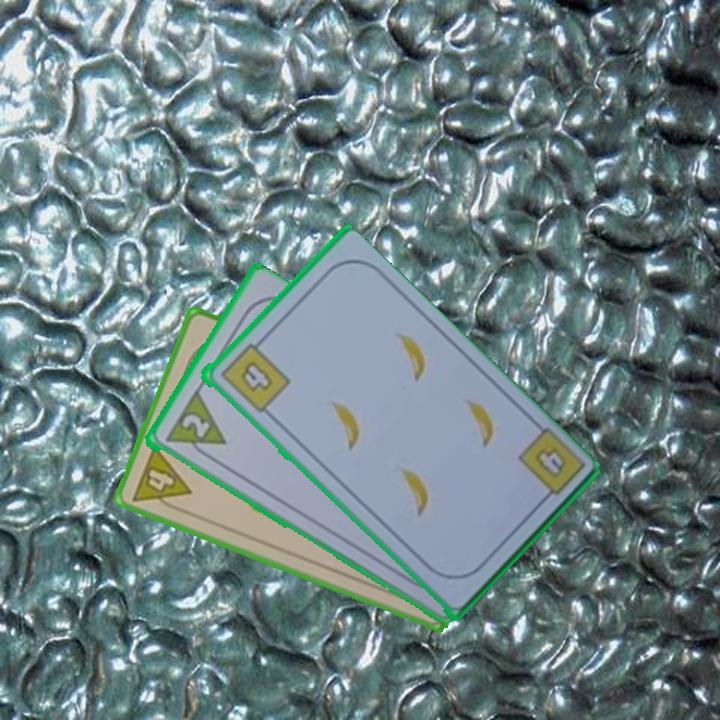2p: (160, 389, 228, 465)
4b: (216, 335, 293, 416), (513, 425, 587, 509)
4p: (128, 441, 194, 517)
